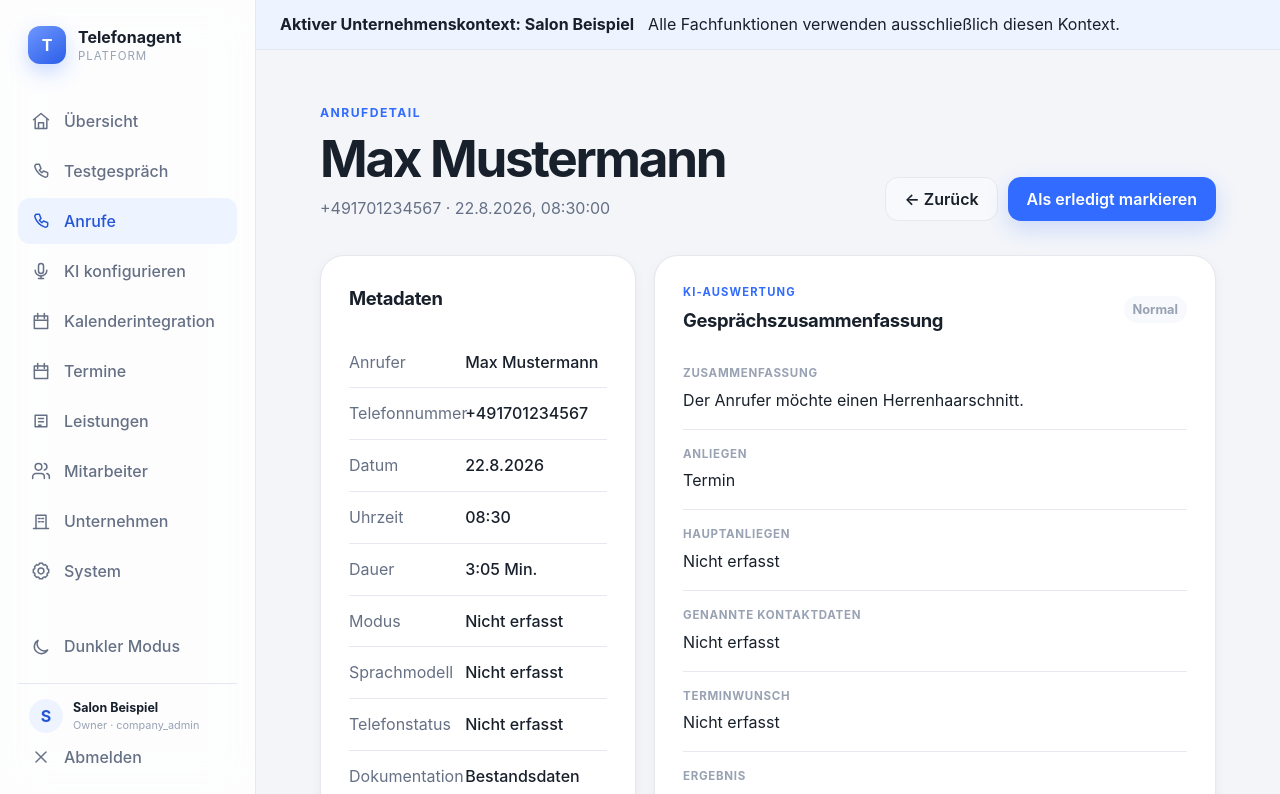
Call History › zeigt das Transkript und ändert den Bearbeitungsstatus
Expected: the heading "Max Mustermann" is shown, [320,131,725,186]
What coordinates should you click on to do the following:
click the button "Als erledigt markieren"
I would click on:
 (1112, 199)
Its box is [1008,177,1216,221].
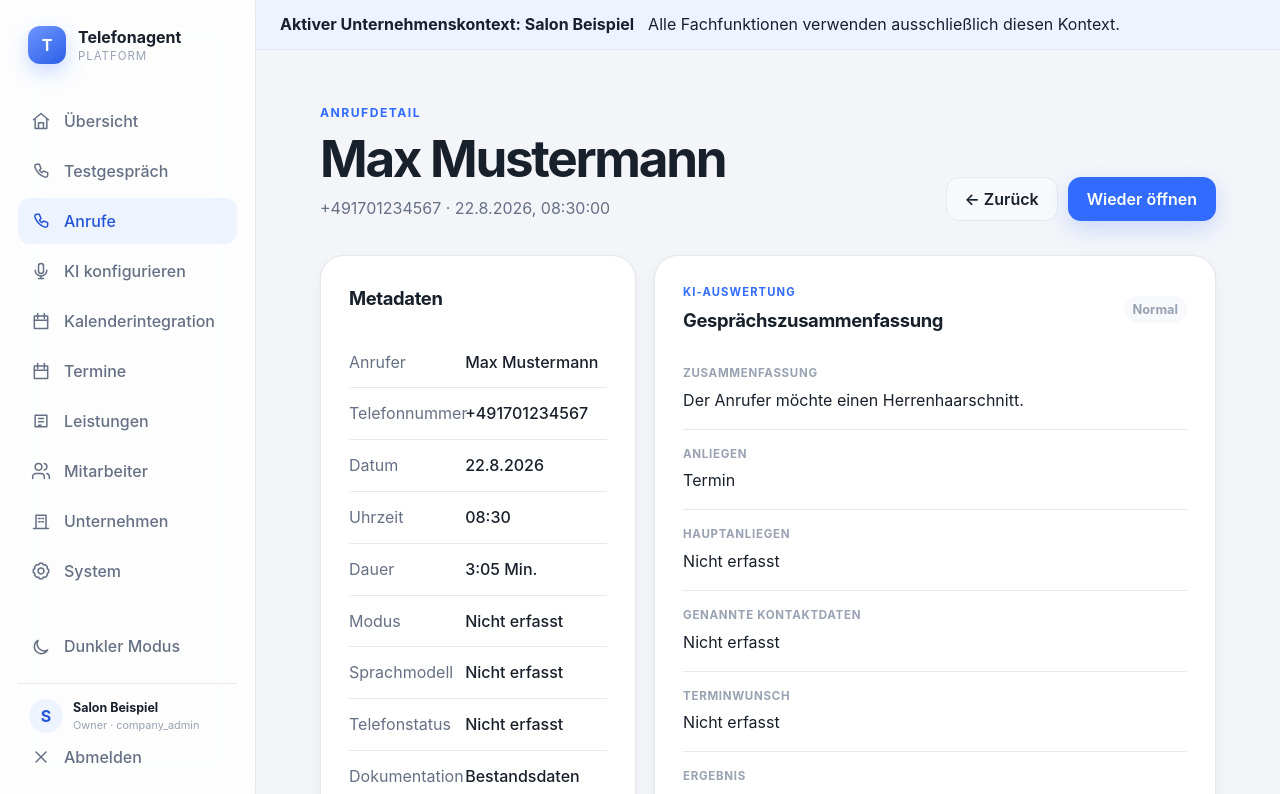
Expected: the button "Wieder öffnen" is shown, [1068,177,1216,221]
